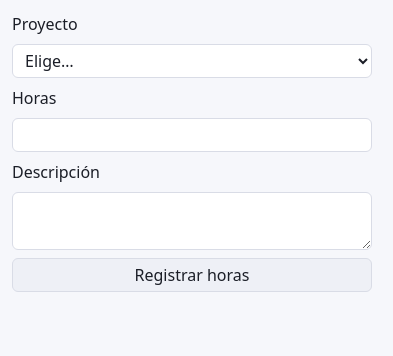
Scenario: TimeEntryForm › shows a server error
Step 1. Select "Reports" in the dropdown labelled "Proyecto" → (192, 61), box [12,44,372,78]
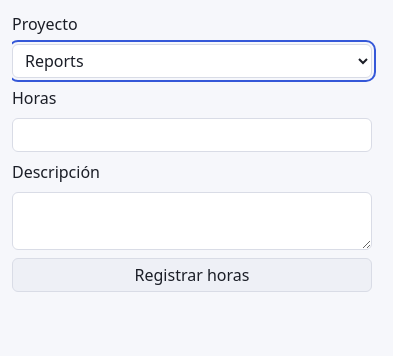
Step 2. Type "1" into the number field labelled "Horas" → (192, 135), box [12,118,372,152]
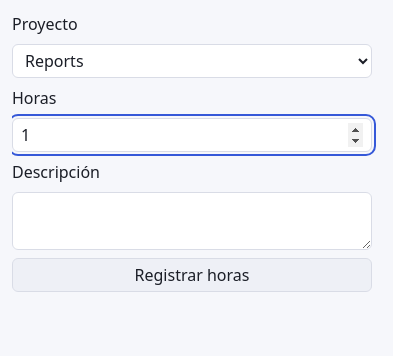
Step 3. Click the button "Registrar horas" → (192, 275), box [12,258,372,292]
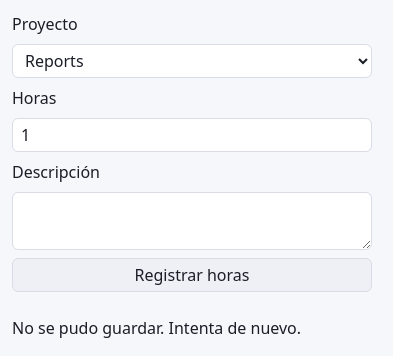
Expected: the text "No se pudo guardar. Intenta de nuevo." is shown, [12,317,301,339]
